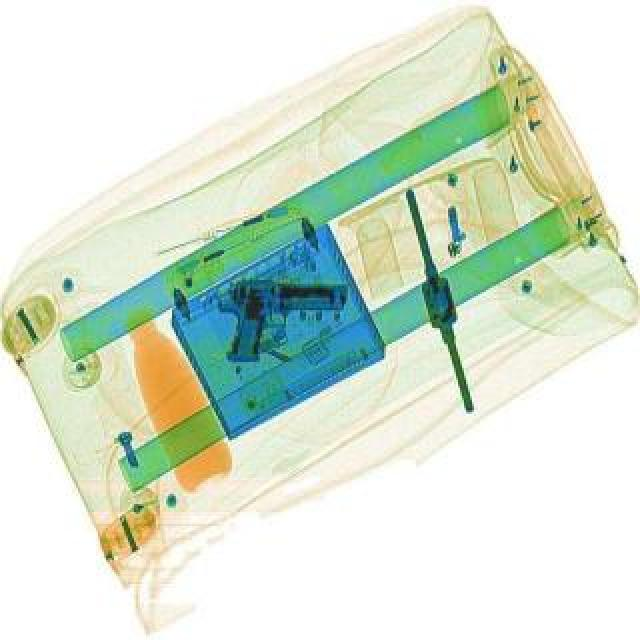gun: (214, 276, 346, 364)
